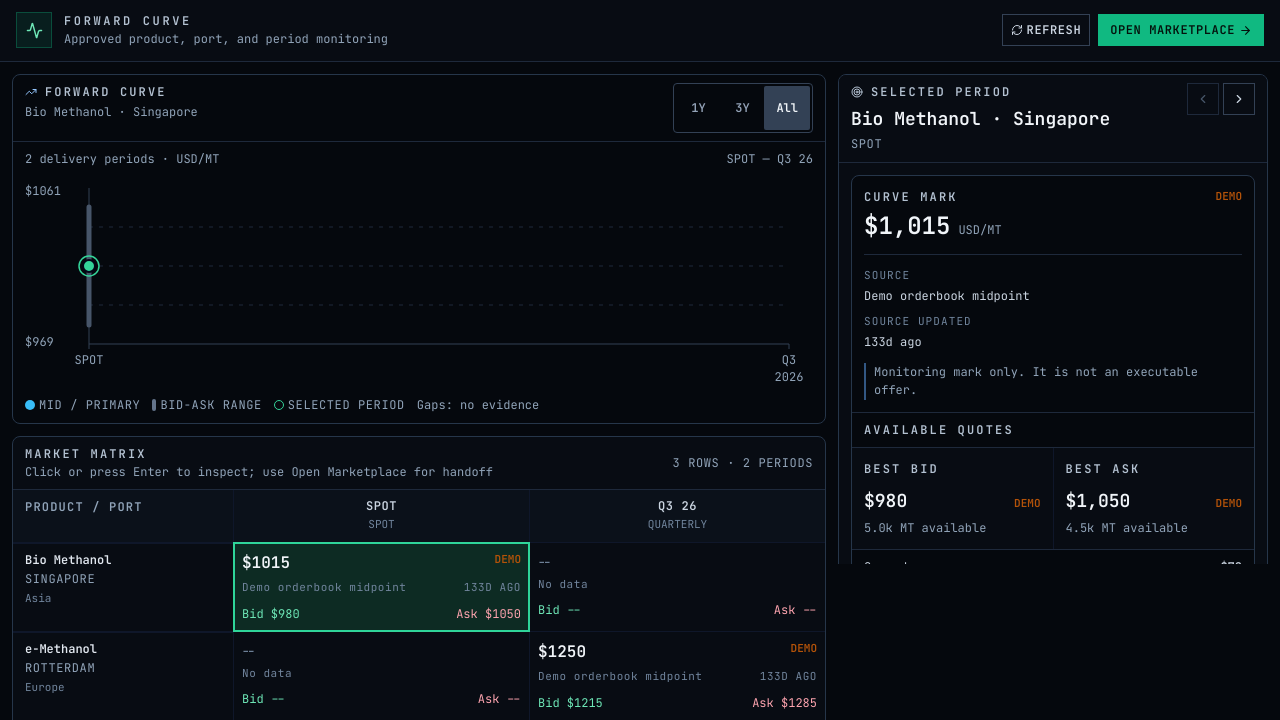
Test: ForwardCurveWorkspace › keeps slice navigation within the loaded market table
Expected: the text "5.0k MT available" is shown, [864,520,986,536]
// This response points to a quarter missing from the selected market row.
What coordinates should you click on to do the following:
click the button named "Next period"
I would click on:
 (1239, 99)
Its box is [1223,83,1255,115].
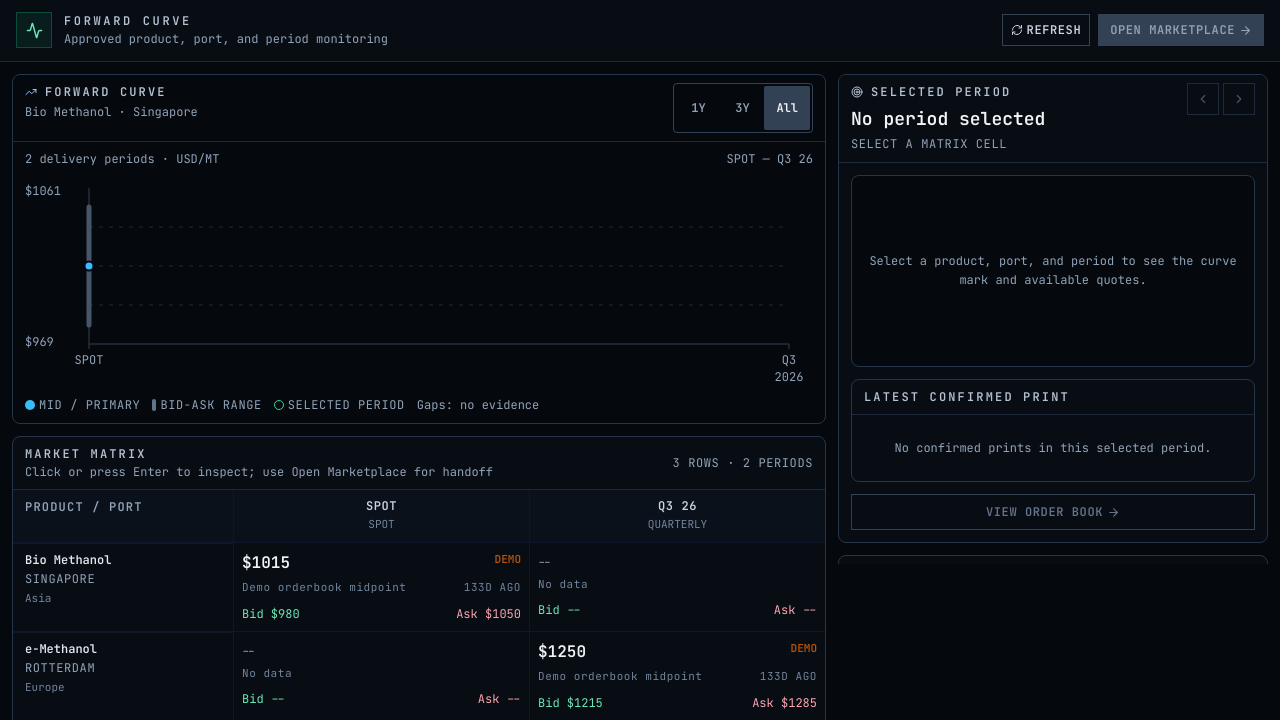
Expected: the text "No period selected" is shown, [851,105,1045,133]
